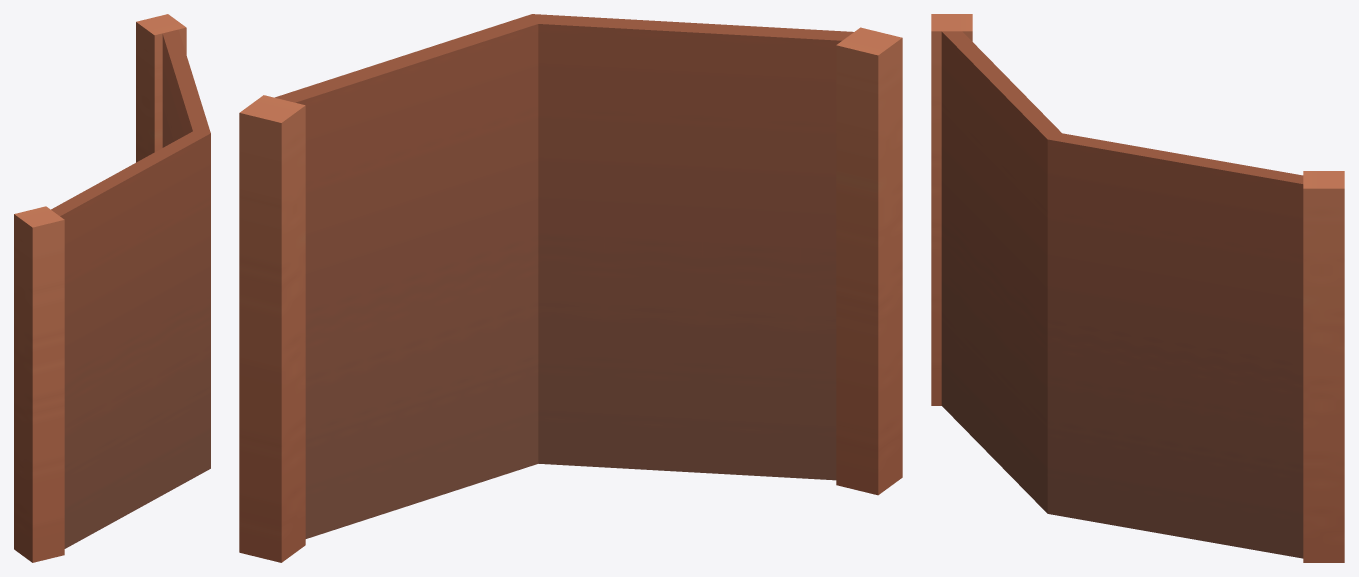
File: wallWoodCornerEdge.fbx
3 views of the same model, side by side, from view 1: azimuth 30°, elevation 25°; view 2: azimuth 150°, elevation 25°; view 3: azimuth 270°, elevation 25° (orthographic). The views are drawn at different scales.
Visible parts, largest first — view 1: wallWoodCornerEdge; view 2: wallWoodCornerEdge; view 3: wallWoodCornerEdge.
Boxes of the visible parts, bbox=[...] form: wallWoodCornerEdge: bbox=[14, 14, 210, 562]; wallWoodCornerEdge: bbox=[239, 14, 902, 562]; wallWoodCornerEdge: bbox=[931, 14, 1344, 562].
Size of the model in its own units: 1 by 1 by 1.
